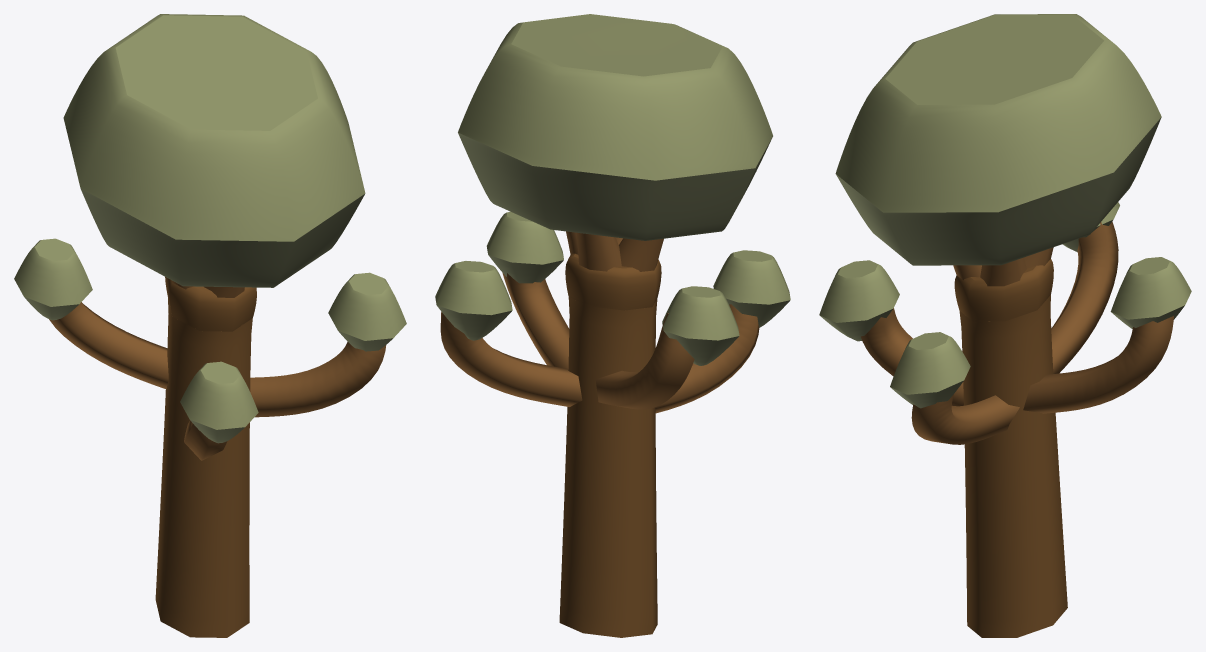
The model's file is Trees(2).glb.
3 renders of one model, left to right at view 1: azimuth 30°, elevation 25°; view 2: azimuth 150°, elevation 25°; view 3: azimuth 270°, elevation 25°, orthographic. The views are drawn at different scales.
Visible parts, largest first — view 1: Root; view 2: Root; view 3: Root.
Boxes of the visible parts, <box> form: Root: <box>14,14,406,637</box>; Root: <box>435,14,790,637</box>; Root: <box>819,14,1191,637</box>.
Size of the model in its own units: 1.89 by 3.35 by 1.93.
